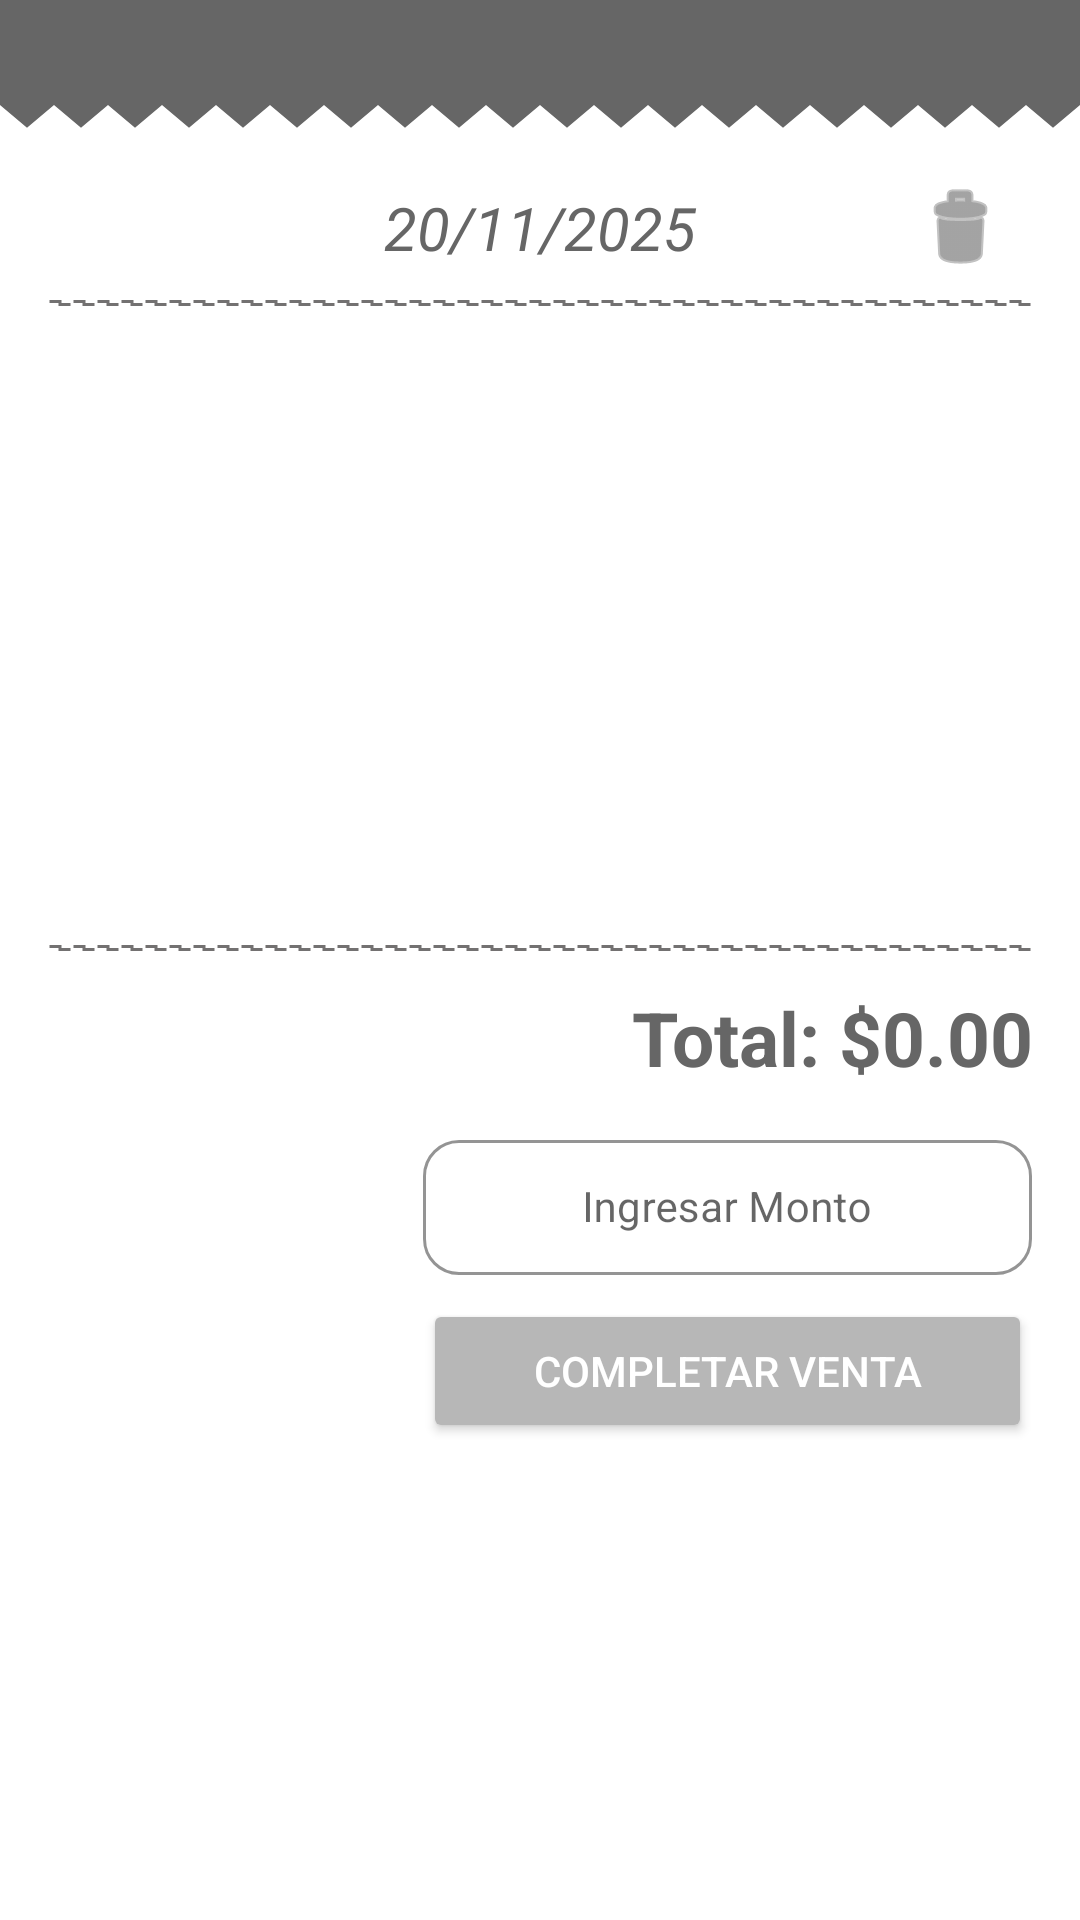

Icon bounding boxes for this 1080px×1920px phone screenshot, format {"x1": x1, "y1": y1, "x2": x2, "y2": y2}:
Cancelar venta: {"x1": 934, "y1": 189, "x2": 987, "y2": 264}
